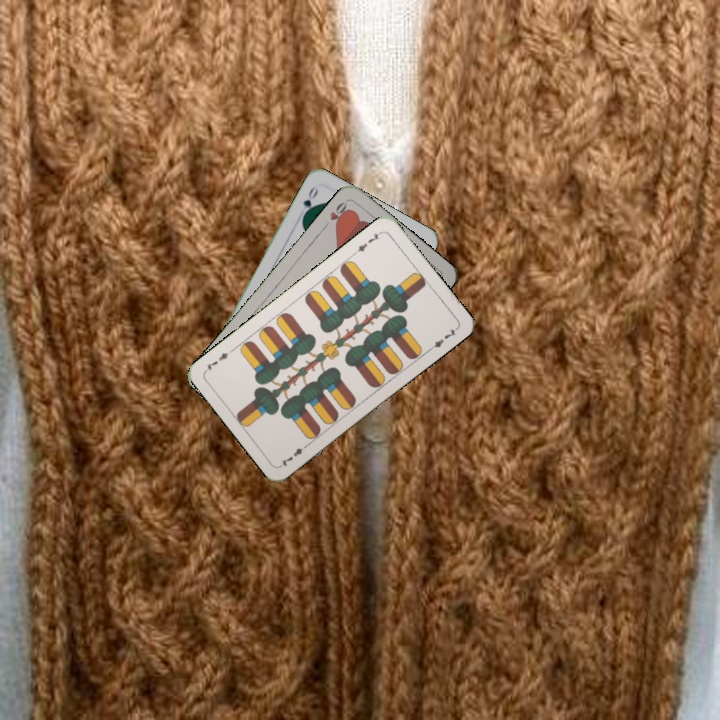E7: (350, 227, 385, 257), (276, 440, 312, 469)
GO: (299, 182, 321, 220)
HO: (319, 197, 352, 231)
